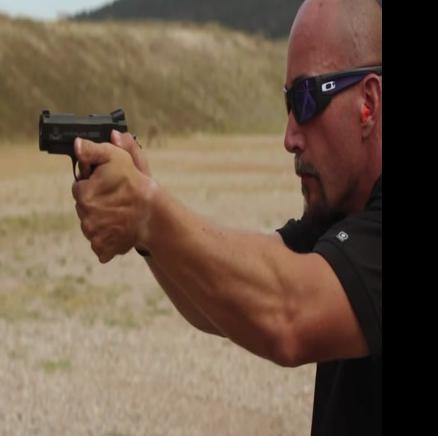pistol: (37, 108, 142, 262)
